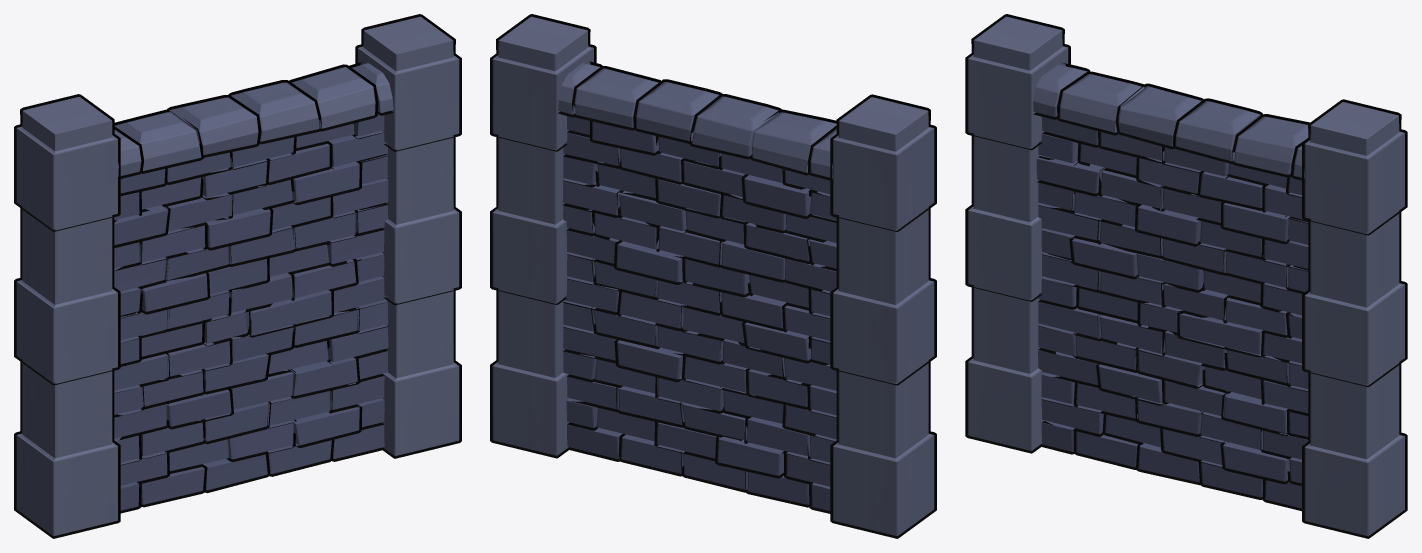
The model's file is Stone_Wall.fbx.
3 renders of one model, left to right at view 1: azimuth 30°, elevation 25°; view 2: azimuth 150°, elevation 25°; view 3: azimuth 330°, elevation 25°, orthographic.
Visible parts, largest first — view 1: Stone_Wall, Stone_Wall_Pillar_Right, Stone_Wall_Pillar_Left; view 2: Stone_Wall, Stone_Wall_Pillar_Right, Stone_Wall_Pillar_Left; view 3: Stone_Wall, Stone_Wall_Pillar_Left, Stone_Wall_Pillar_Right.
Part boxes in pixels (box(x1,y1,x2,y2)): Stone_Wall: box(114, 61, 393, 513); Stone_Wall_Pillar_Right: box(14, 94, 120, 538); Stone_Wall_Pillar_Left: box(355, 14, 461, 458); Stone_Wall: box(558, 61, 836, 513); Stone_Wall_Pillar_Right: box(830, 94, 936, 538); Stone_Wall_Pillar_Left: box(490, 14, 596, 458); Stone_Wall: box(1033, 62, 1309, 511); Stone_Wall_Pillar_Left: box(1302, 99, 1407, 538); Stone_Wall_Pillar_Right: box(965, 14, 1070, 453).
Bounding box in the file's own units: 528 × 502 × 89.29.
